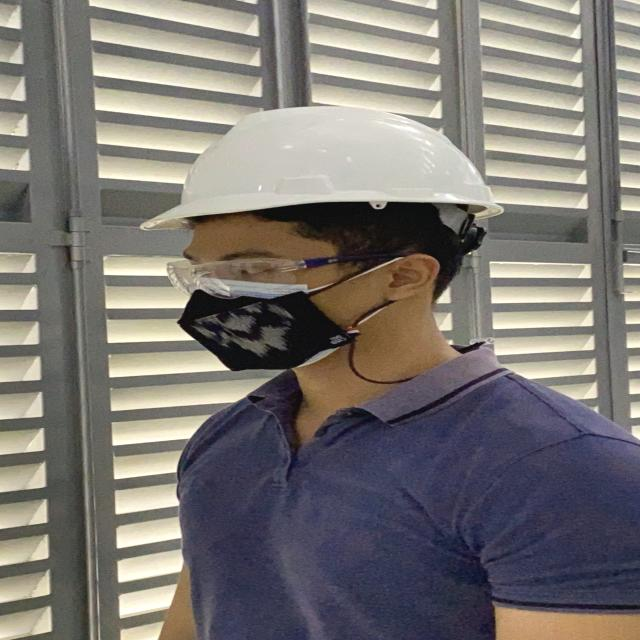face_mask: (150, 240, 377, 381)
glasses: (159, 247, 424, 301)
head_helmet: (124, 98, 519, 230)
person: (128, 96, 640, 639)
